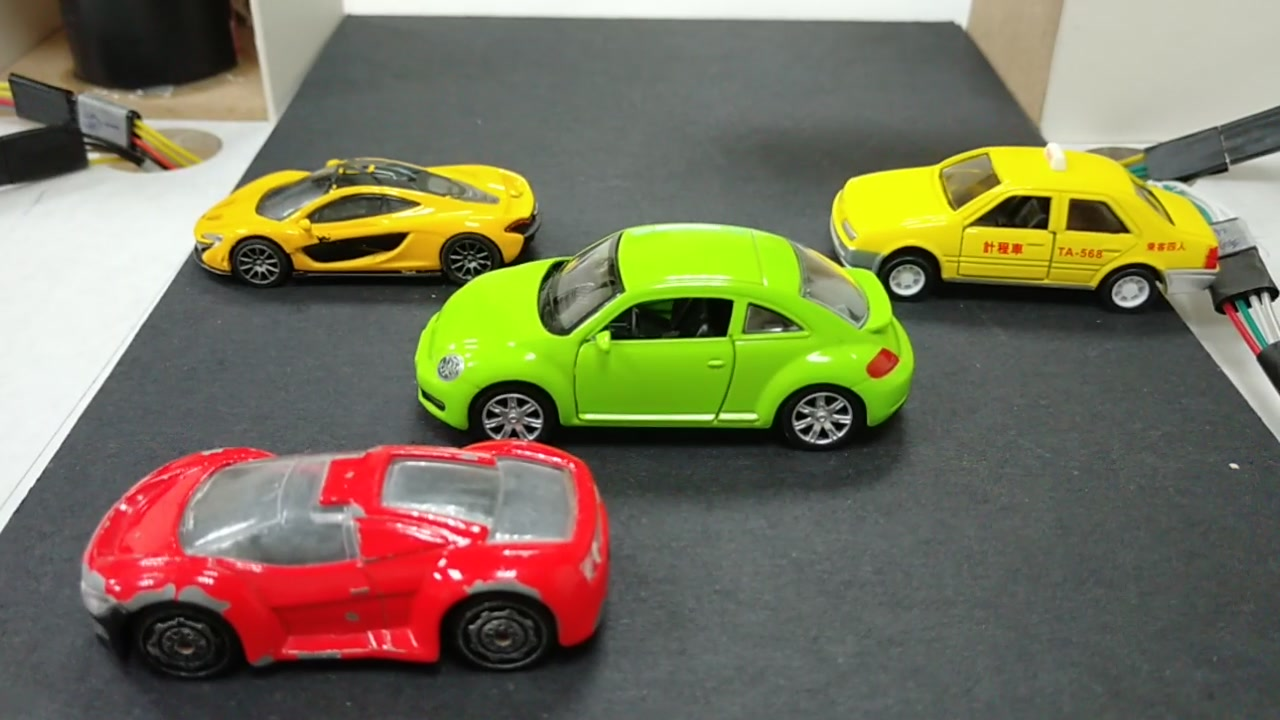car: (83, 440, 609, 674), (414, 227, 912, 441), (831, 155, 1221, 311), (196, 159, 534, 268)
